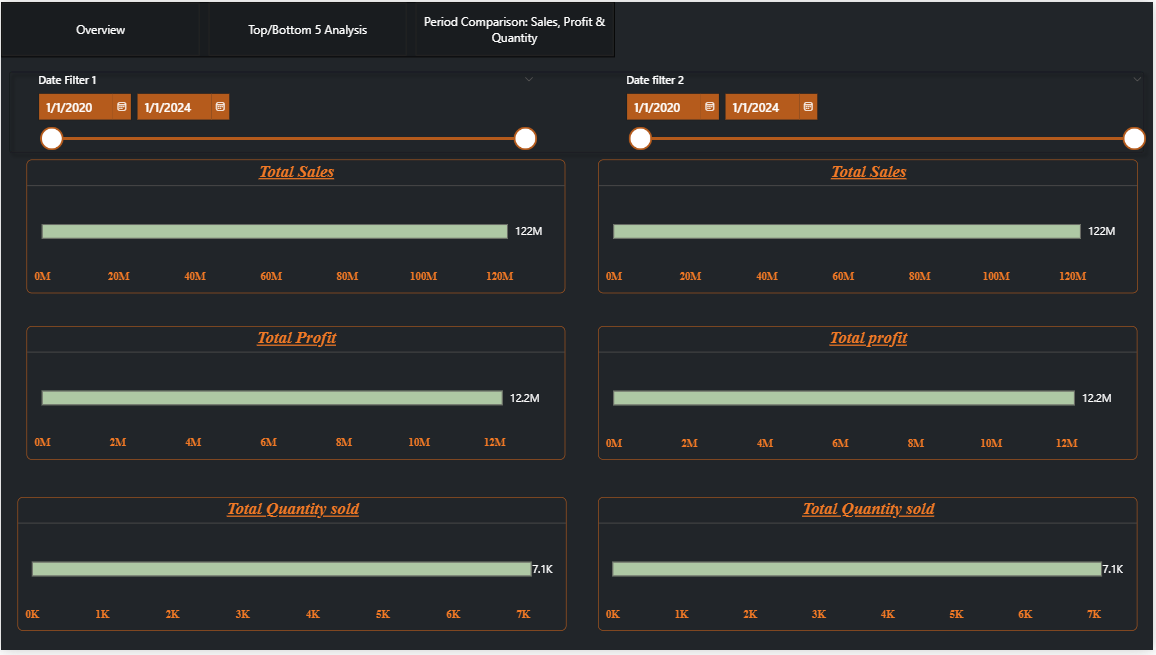

Layout of this report page (visuals, bound fields, positions):
{"tool":"powerbi","page":{"name":"Period Comparison: Sales, Profit & Quantity","canvas":[1280,720],"ordinal":2},"visuals":[{"type":"shape","box":[0,67.7,1279,108.1],"z":0},{"type":"slicer","fields":{"Values":["Fact Table.Date (dd/mm/yyyy)"]},"box":[29,72.6,575.8,101.6],"z":1000},{"type":"slicer","fields":{"Values":["Fact Table.Date (dd/mm/yyyy)"]},"box":[681.6,72.6,598.4,95.2],"z":2000},{"type":"barChart","title":"Total Sales","fields":{"Y":["Sum(Fact Table.Net Sales(INR))"]},"box":[29,175.8,598.4,148.4],"z":3000},{"type":"barChart","title":"Total Profit","fields":{"Y":["Sum(Fact Table.Profit)"]},"box":[29,359.7,598.4,148.4],"z":4000},{"type":"barChart","title":"Total Quantity sold","fields":{"Y":["Sum(Fact Table.Units Sold)"]},"box":[17.6,549.6,610.3,148.6],"z":5000},{"type":"barChart","title":"Total Sales","fields":{"Y":["Sum(Fact Table.Net Sales(INR))"]},"box":[662.9,175.8,600,148.4],"z":6000},{"type":"barChart","title":"Total profit","fields":{"Y":["Sum(Fact Table.Profit)"]},"box":[663,359.5,599.1,148.6],"z":7000},{"type":"barChart","title":"Total Quantity sold","fields":{"Y":["Sum(Fact Table.Units Sold)"]},"box":[663,549.6,599.1,148.6],"z":8000},{"type":"pageNavigator","box":[0,0,682.3,61.3],"z":9000}]}

Visuals, with their boxes on the page's 1280x720 design canvas (x1, y1, x2, y2). These are canvas units, not pixel positions in the 1156x655 screenshot, which may show the page scaled, cropped or inside an application window:
shape: 0 68 1279 176
slicer - Fact Table.Date (dd/mm/yyyy): 29 73 605 174
slicer - Fact Table.Date (dd/mm/yyyy): 682 73 1280 168
"Total Sales" barChart: 29 176 627 324
"Total Profit" barChart: 29 360 627 508
"Total Quantity sold" barChart: 18 550 628 698
"Total Sales" barChart: 663 176 1263 324
"Total profit" barChart: 663 360 1262 508
"Total Quantity sold" barChart: 663 550 1262 698
pageNavigator: 0 0 682 61
